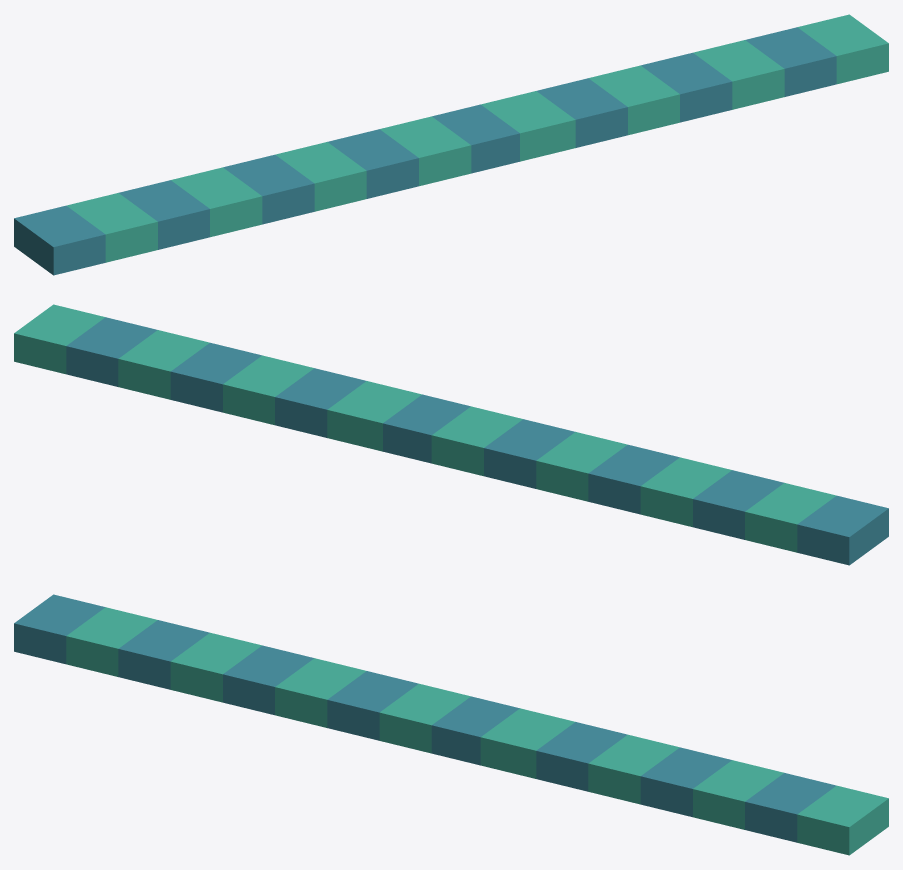
Rendered from floor_square.glb.
3 views of the same model, one above another, from view 1: azimuth 30°, elevation 25°; view 2: azimuth 150°, elevation 25°; view 3: azimuth 330°, elevation 25° (orthographic).
Visible parts, largest first — view 1: Floor_Square; view 2: Floor_Square; view 3: Floor_Square.
Part boxes in pixels (bbox=[...]): Floor_Square: bbox=[14, 14, 888, 275]; Floor_Square: bbox=[14, 304, 888, 565]; Floor_Square: bbox=[14, 594, 888, 855].
Bounding box in the file's own units: 61.8 × 2 × 5.06.
